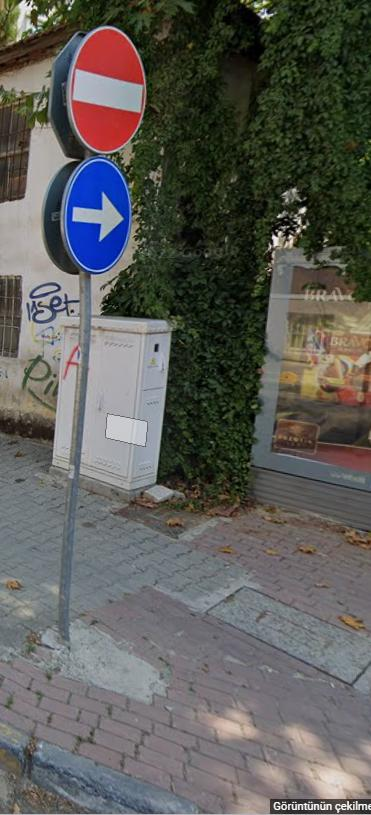turnright: (70, 164, 133, 263)
